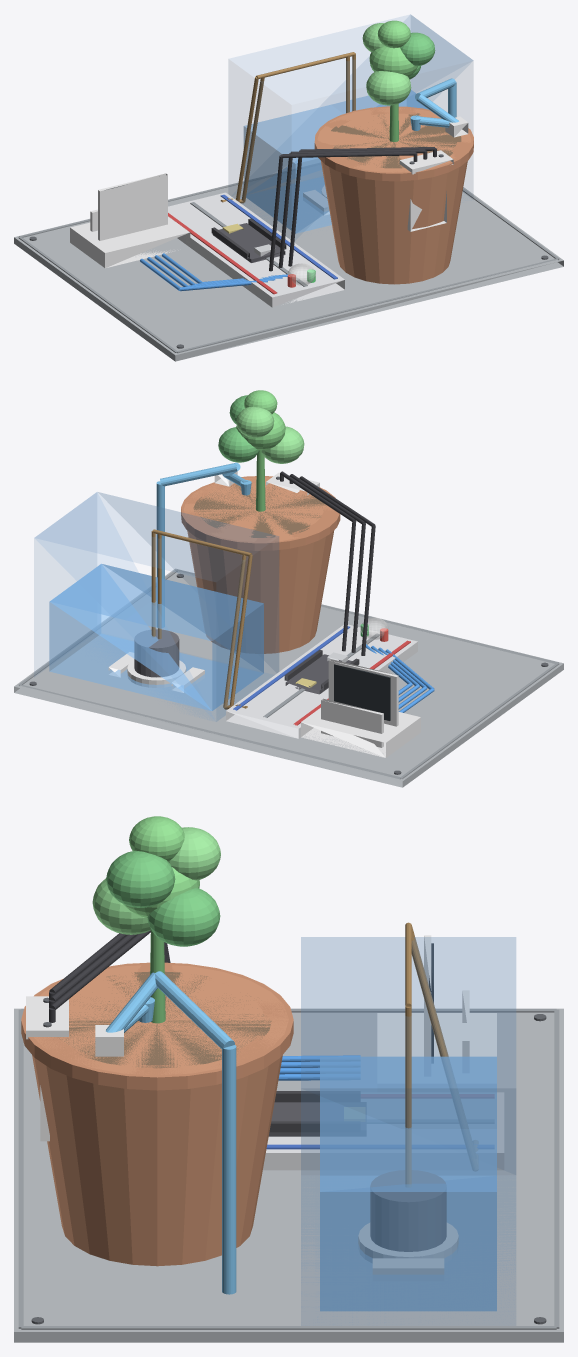
The model's file is 花房系统概念模型_v3_参数化.glb.
3 views of the same model, one above another, from view 1: azimuth 30°, elevation 25°; view 2: azimuth 150°, elevation 25°; view 3: azimuth 270°, elevation 25° (orthographic). The views are drawn at different scales.
Visible parts, largest first — view 1: 整合底板_P1-6, 水箱(半透明), 花盆, 水箱_水位, 面包板, OLED托板_45度, OLED底座_P1-4, 花盆_盆沿, 盆土, 植物_叶2, ESP32主控, 底板边框_前 (+15 smaller); view 2: 整合底板_P1-6, 水箱(半透明), 水箱_水位, 花盆, 面包板, 盆土, OLED底座_P1-4, 花盆_盆沿, OLED屏, 水泵(箱内), OLED托板_背撑, 底板边框_后 (+21 smaller); view 3: 水箱(半透明), 整合底板_P1-6, 花盆, 水箱_水位, 花盆_盆沿, 盆土, 水泵(箱内), OLED底座_P1-4, 水管_立管, 植物_叶5, 植物_叶3, 面包板 (+21 smaller).
Boxes of the visible parts, x1,y1,x2,y2 form: 整合底板_P1-6: (14,165,563,361); 水箱(半透明): (229,14,473,239); 花盆: (317,107,471,284); 水箱_水位: (243,90,428,233); 面包板: (168,192,344,307); OLED托板_45度: (98,173,167,240); OLED底座_P1-4: (70,216,190,268); 花盆_盆沿: (314,106,473,181); 盆土: (331,113,461,168); 植物_叶2: (366,71,411,105); ESP32主控: (212,223,285,262); 底板边框_前: (176,258,558,353); 整合底板_P1-6: (14,568,563,787); 水箱(半透明): (34,492,278,721); 水箱_水位: (49,564,263,710); 花盆: (183,477,334,653); 面包板: (226,624,417,738); 盆土: (193,483,326,537); OLED底座_P1-4: (301,707,420,757); 花盆_盆沿: (181,476,340,550); OLED屏: (334,664,390,720); 水泵(箱内): (134,629,179,677); OLED托板_背撑: (321,698,383,747); 底板边框_后: (19,684,401,779); 水箱(半透明): (301,937,515,1325); 整合底板_P1-6: (14,1008,563,1342); 花盆: (32,965,288,1266); 水箱_水位: (320,1056,496,1311); 花盆_盆沿: (21,962,293,1090); 盆土: (57,971,271,1068); 水泵(箱内): (370,1170,446,1251); OLED底座_P1-4: (377,1013,496,1056); 水管_立管: (222,1045,236,1294); 植物_叶5: (106,850,175,907); 植物_叶3: (147,888,220,946); 面包板: (263,1092,504,1170).
Size of the model in its own units: 320 by 193 by 230.
